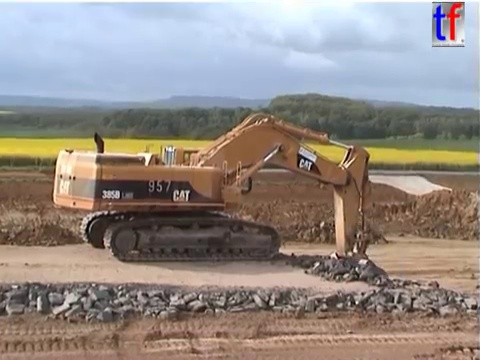excavator: (49, 109, 378, 303)
